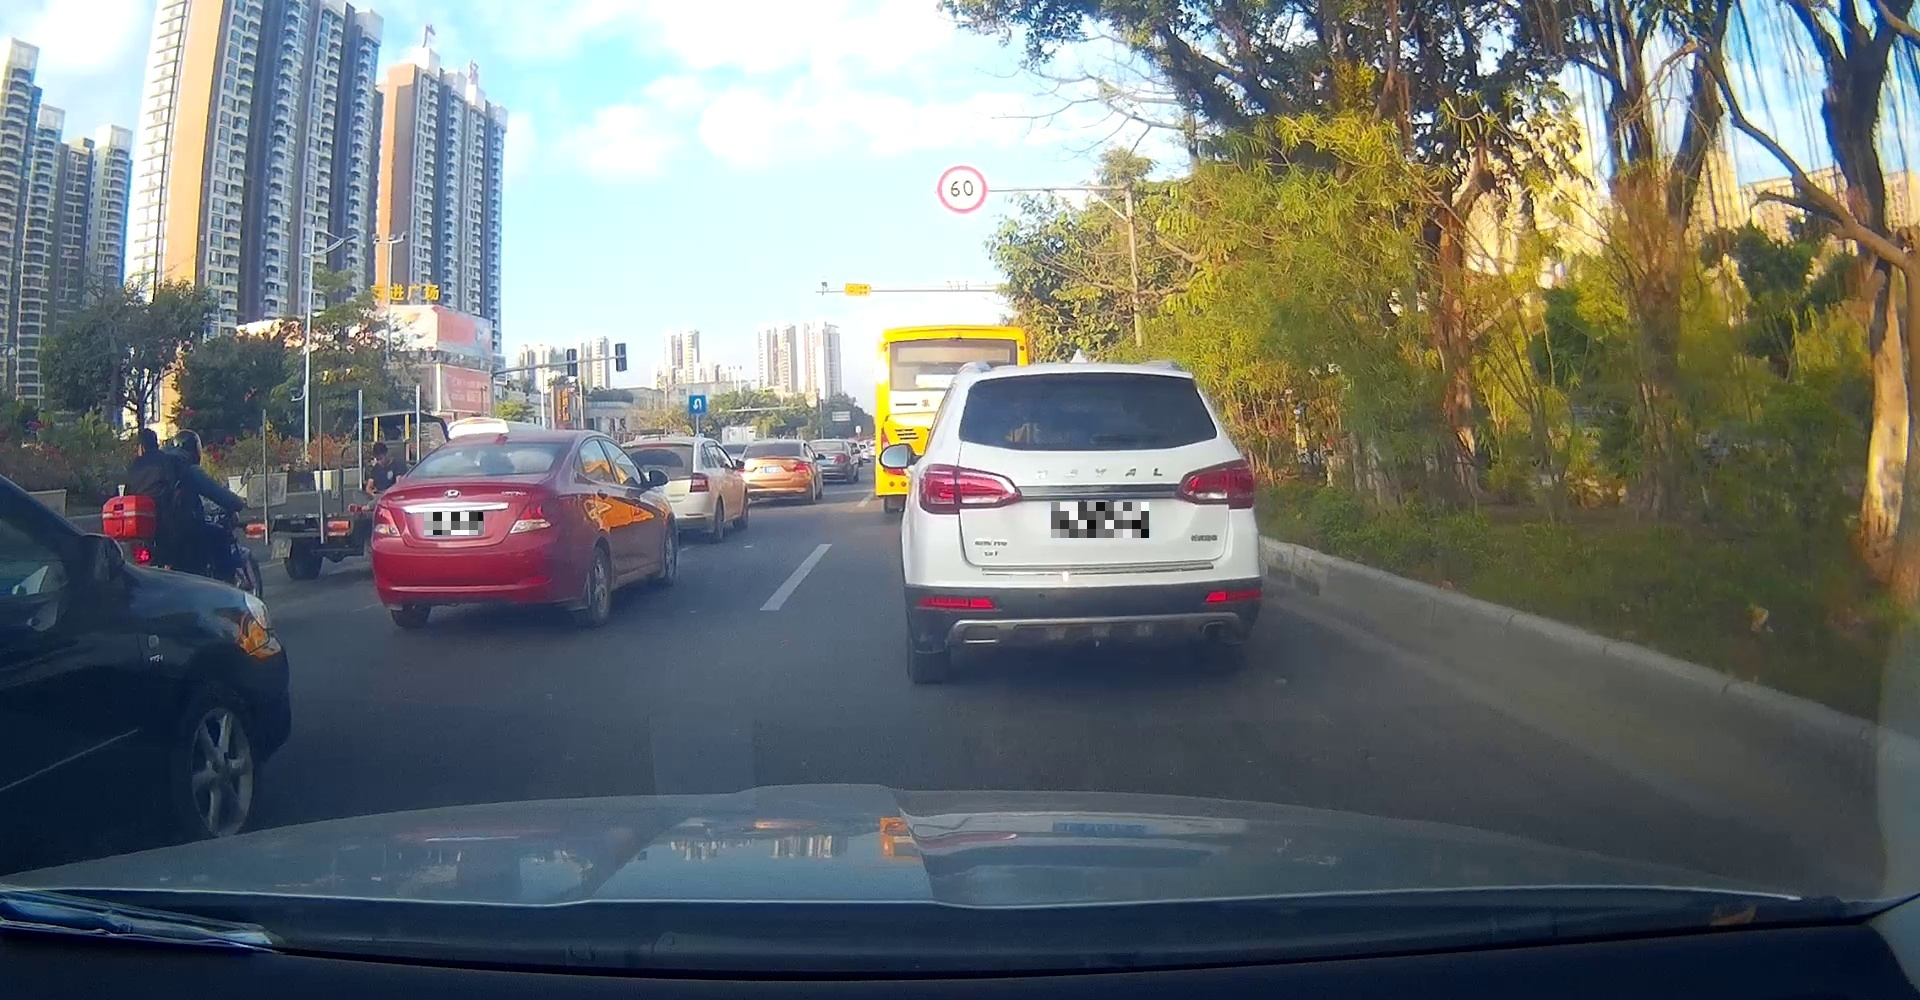L_light: (917, 464, 1021, 515), (372, 504, 403, 538), (738, 468, 745, 472)
R_light: (1175, 457, 1255, 510), (509, 497, 560, 534), (792, 462, 810, 472)
T_light: (1049, 376, 1117, 385), (461, 470, 488, 476), (770, 444, 778, 447)
day-no: (908, 363, 1263, 684), (370, 430, 570, 629), (735, 439, 811, 505)
plate_1: (424, 511, 483, 536)
plate_2: (1051, 503, 1149, 538)
